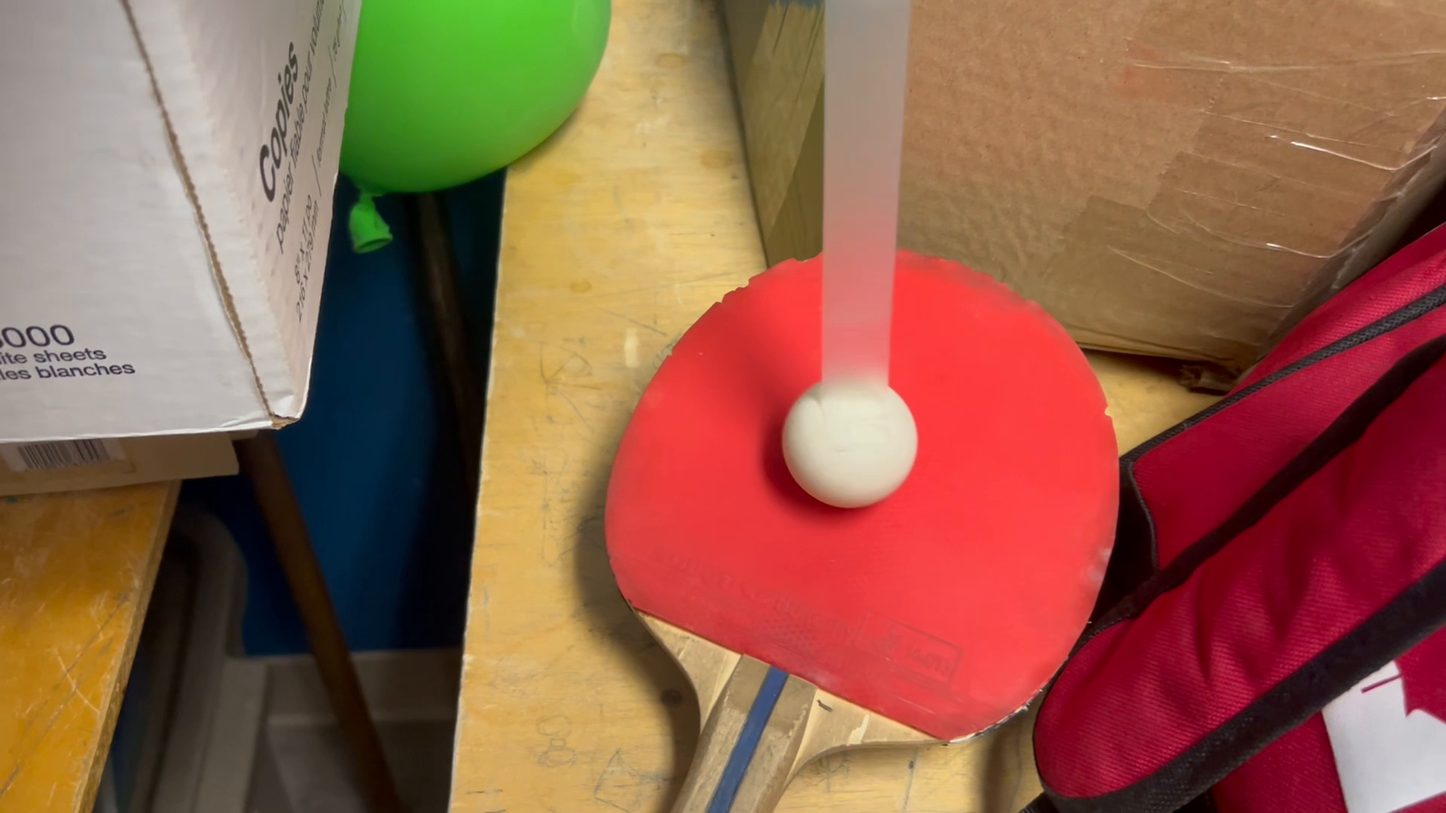Ball: (780, 381, 930, 513)
